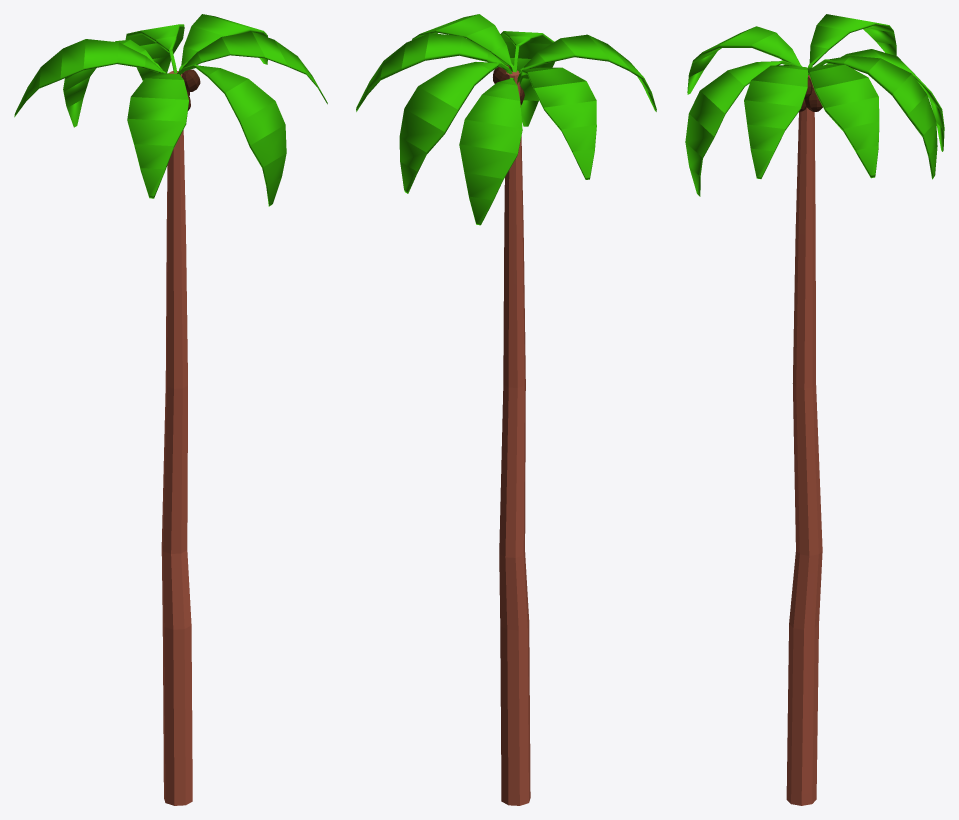
File: palm3.fbx
3 renders of one model, left to right at view 1: azimuth 30°, elevation 25°; view 2: azimuth 150°, elevation 25°; view 3: azimuth 270°, elevation 25°, orthographic.
Parts seen in each view (by area): view 1: palm3; view 2: palm3; view 3: palm3.
Boxes of the visible parts, box(x1,y1,x2,y2) form: palm3: box(14, 14, 327, 805); palm3: box(356, 14, 656, 805); palm3: box(685, 14, 944, 805).
Bounding box in the file's own units: 464 × 1347 × 421.
